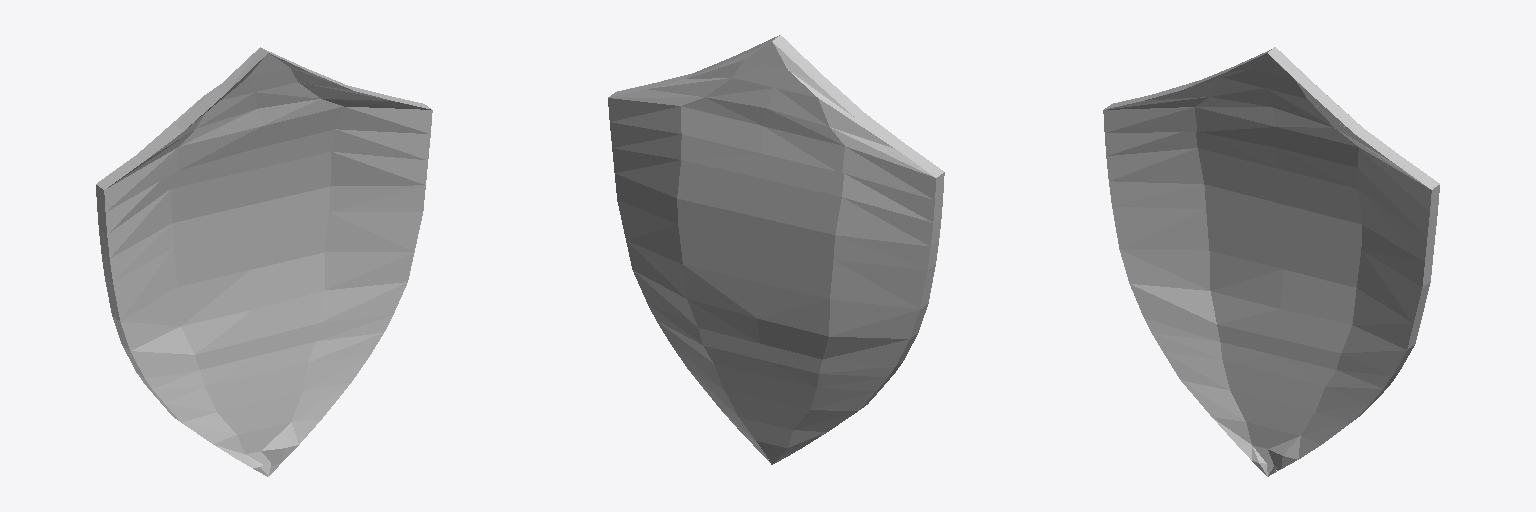
File: defsword.obj
3 views of the same model, side by side, from view 1: azimuth 30°, elevation 25°; view 2: azimuth 150°, elevation 25°; view 3: azimuth 330°, elevation 25° (orthographic).
Parts seen in each view (by area): view 1: Cubo; view 2: Cubo; view 3: Cubo.
Boxes of the visible parts, <box> form: Cubo: <box>96,47,432,476</box>; Cubo: <box>608,35,944,464</box>; Cubo: <box>1103,47,1439,476</box>.
Size of the model in its own units: 10 by 12.35 by 1.32.